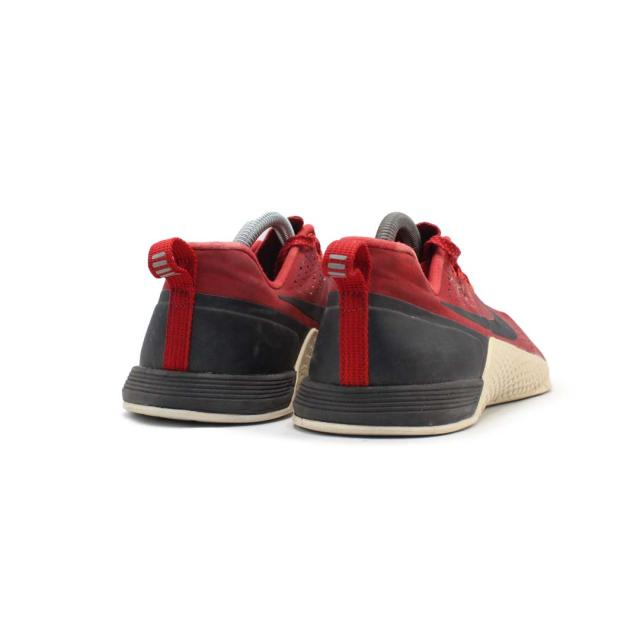heel: (306, 240, 453, 385), (135, 239, 288, 376)
midsole: (291, 367, 551, 439), (120, 367, 297, 425)
